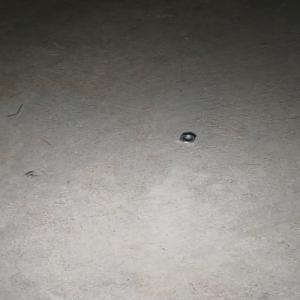Nut: (178, 132, 196, 143)
